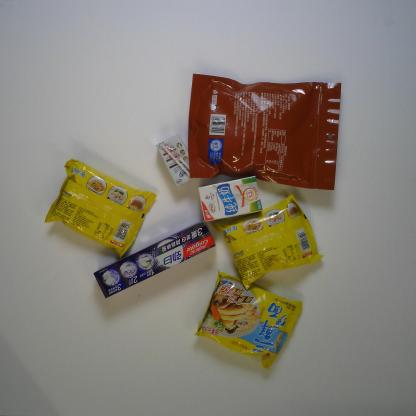Dried Food: (187, 71, 342, 192)
Instant Noodles: (42, 157, 159, 261), (193, 271, 305, 372), (211, 192, 324, 291)
Milk: (197, 172, 264, 224), (156, 135, 192, 188)
Personal Hygiene: (93, 218, 214, 302)
